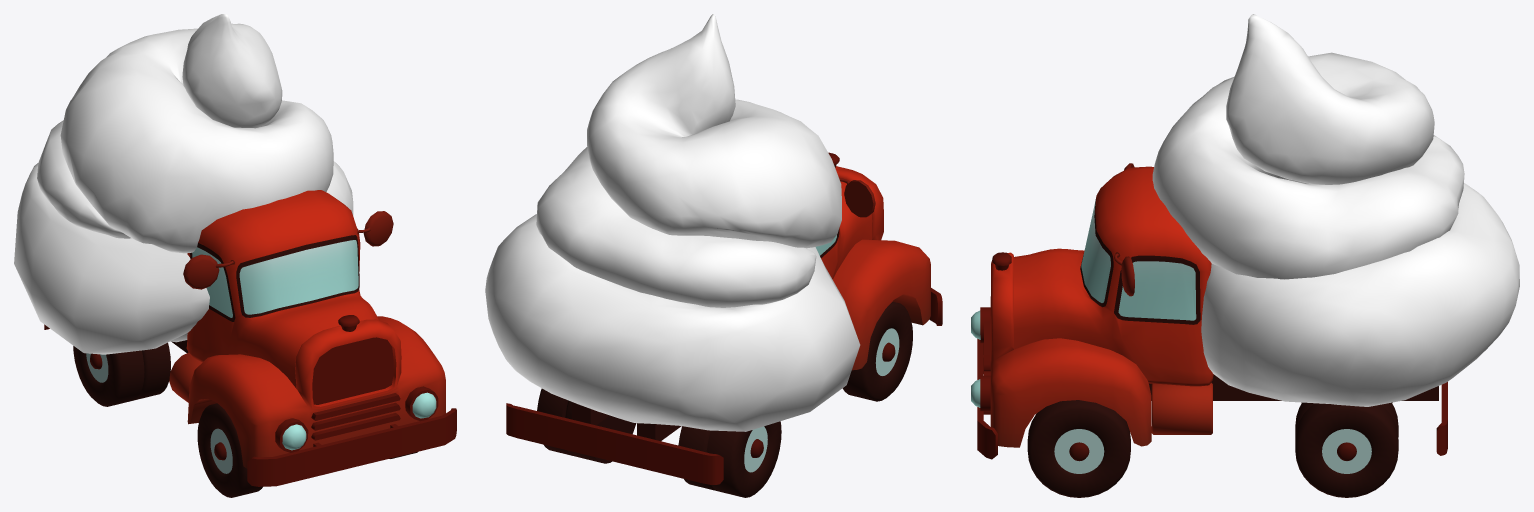
The model's file is PoopTruck00.fbx.
3 views of the same model, side by side, from view 1: azimuth 30°, elevation 25°; view 2: azimuth 150°, elevation 25°; view 3: azimuth 270°, elevation 25° (orthographic). The views are drawn at different scales.
Visible parts, largest first — view 1: PoopTruck; view 2: PoopTruck; view 3: PoopTruck.
Boxes of the visible parts, bbox=[...] form: PoopTruck: bbox=[14, 14, 456, 497]; PoopTruck: bbox=[485, 14, 942, 497]; PoopTruck: bbox=[971, 14, 1519, 497].
Size of the model in its own units: 0.2868 by 0.3605 by 0.415.
